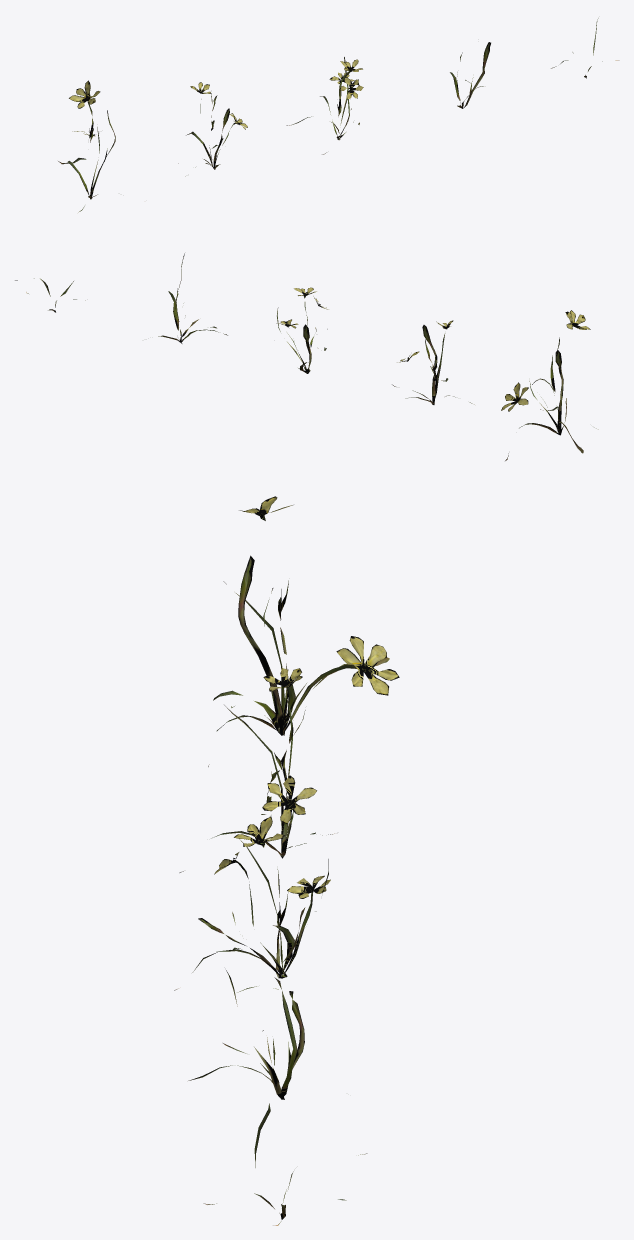
File: flower_empodium.glb
3 renders of one model, top to bottom at view 1: azimuth 30°, elevation 25°; view 2: azimuth 150°, elevation 25°; view 3: azimuth 270°, elevation 25°, orthographic. The views are drawn at different scales.
Visible parts, largest first — view 1: flower_empodium; view 2: flower_empodium; view 3: flower_empodium.
Part boxes in pixels (x1,y1,x2,y2): flower_empodium: [58, 18, 619, 212]; flower_empodium: [15, 253, 598, 460]; flower_empodium: [174, 496, 399, 1225].
Size of the model in its own units: 1.32 by 0.2681 by 0.2834.
Materials: 1 (1 with a texture image).
